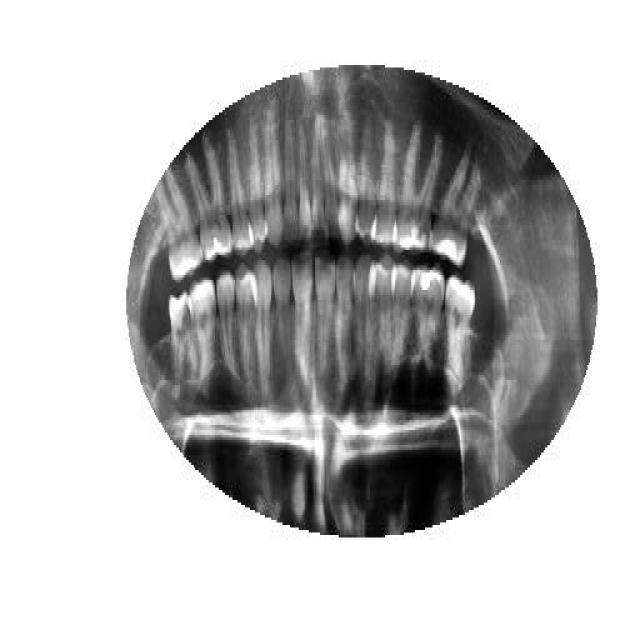Fillings: (187, 135, 235, 265), (411, 262, 445, 372)
